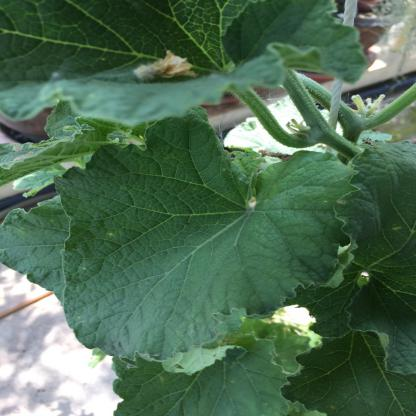Normal: (60, 119, 351, 364)
